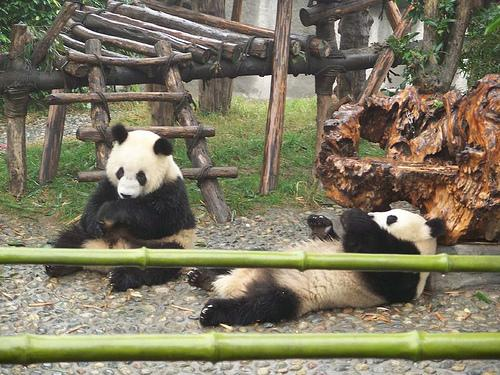panda: (54, 124, 195, 247), (199, 268, 429, 325), (287, 209, 444, 254), (92, 267, 180, 289)
